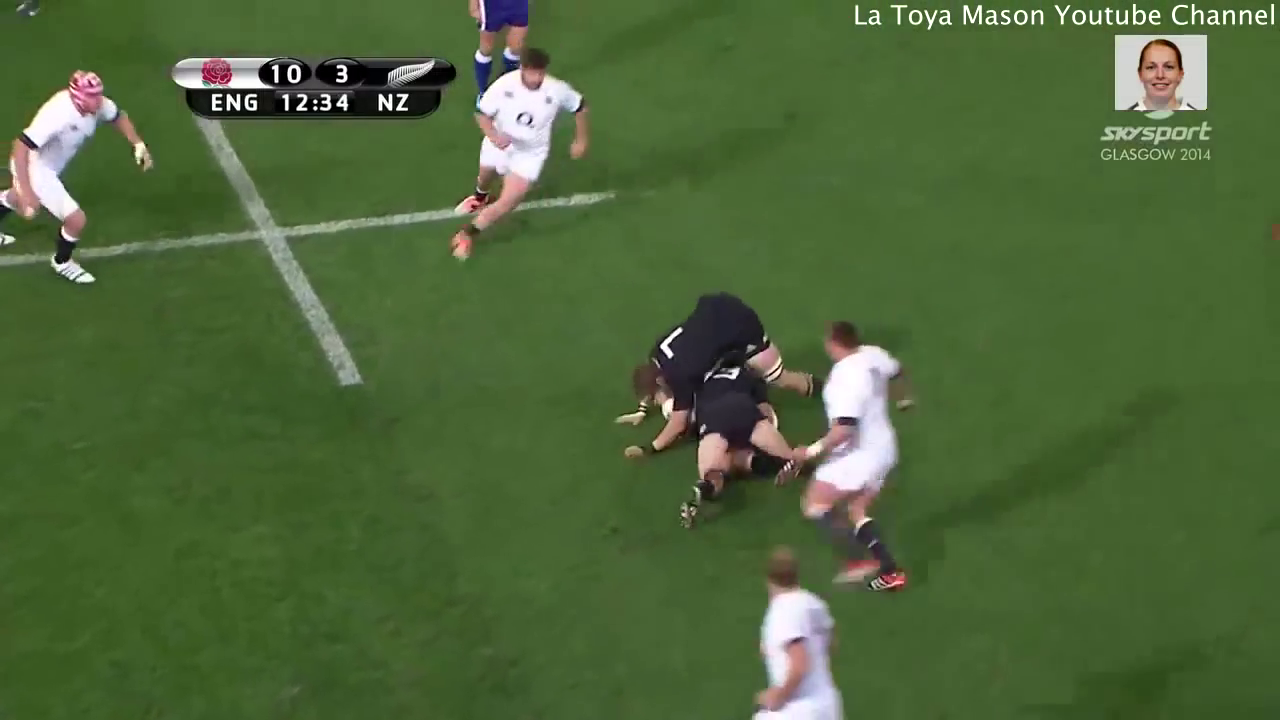10_metre: (1, 92, 631, 408)
player: (601, 276, 878, 468), (761, 310, 925, 616), (1, 61, 157, 296), (440, 44, 600, 268), (661, 360, 833, 541), (728, 536, 865, 720), (457, 1, 544, 116)
